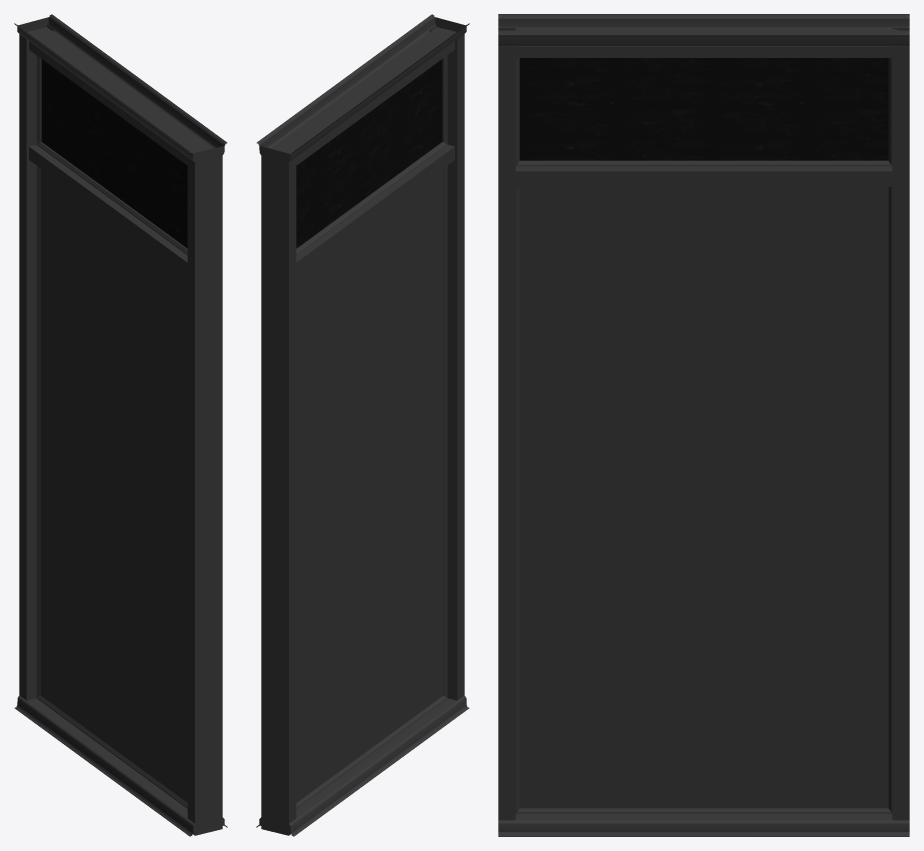
The model's file is part_wall_02.FBX.
The picture shows the model from 3 angles, left to right: view 1: azimuth 30°, elevation 25°; view 2: azimuth 150°, elevation 25°; view 3: azimuth 270°, elevation 25°; orthographic projection. The views are drawn at different scales.
Visible parts, largest first — view 1: part_wall_02; view 2: part_wall_02; view 3: part_wall_02.
Part boxes in pixels (<box>): part_wall_02: <box>14,14,227,836</box>; part_wall_02: <box>256,14,469,836</box>; part_wall_02: <box>498,14,909,836</box>.
Size of what is drawn, in the model's own units: 20.24 by 165 by 355.
